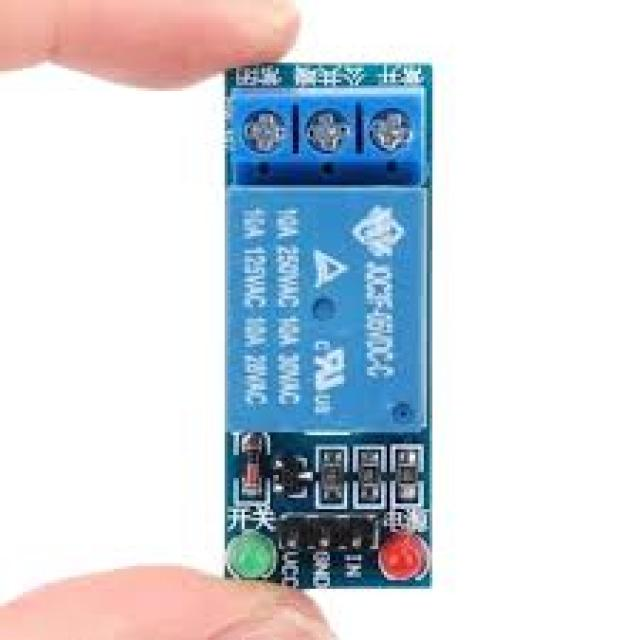Relay: (225, 60, 435, 592)
